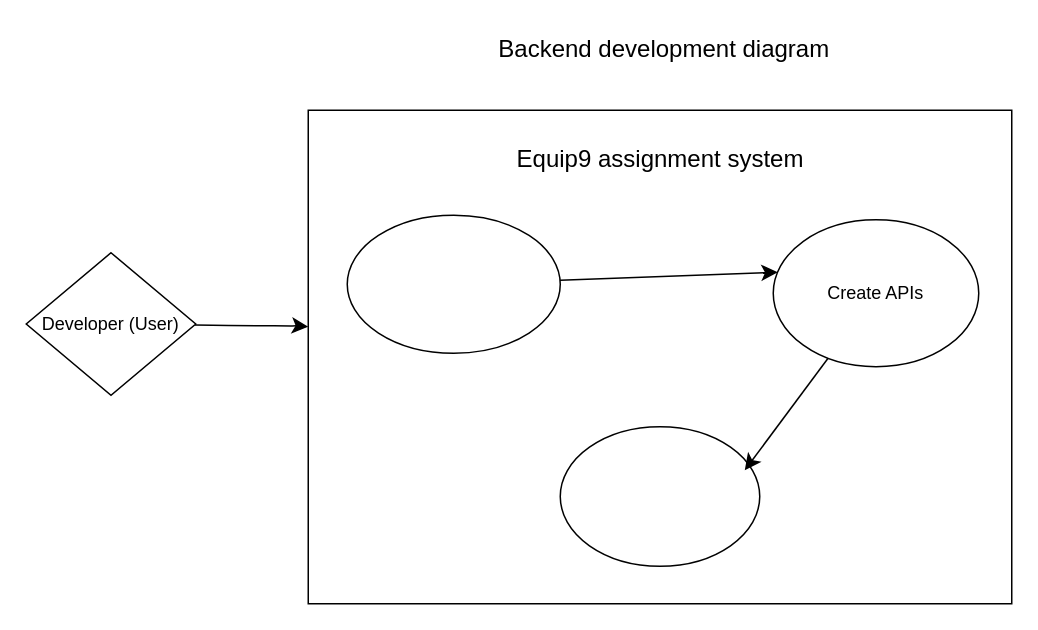
Image size: 1038x630. Some labels were removed from this diagram. Here are the shapes that lost their labels. From the top down, the centre of each, then its label:
At point 453,283: "Build Backend".
At point 659,495: "Test APIs with Postman".
